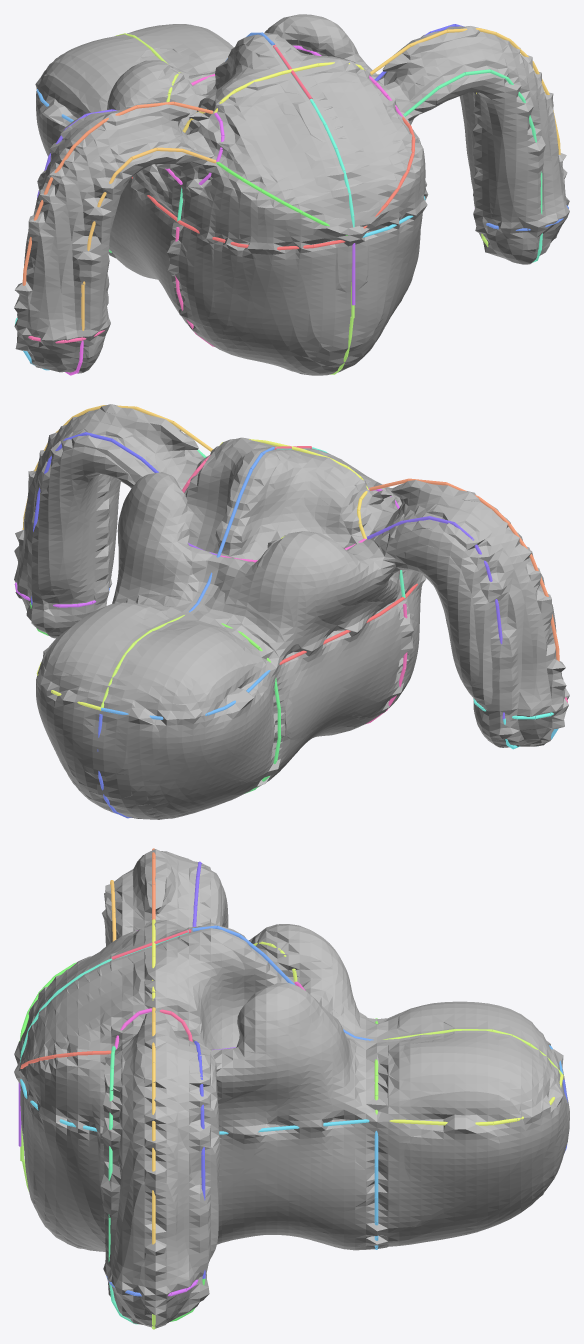
Rendered from scaffolds3d_dog.gltf.
3 views of the same model, one above another, from view 1: azimuth 30°, elevation 25°; view 2: azimuth 150°, elevation 25°; view 3: azimuth 270°, elevation 25° (orthographic). The views are drawn at different scales.
Size of the model in its own units: 0.7359 by 0.3768 by 0.5961.
